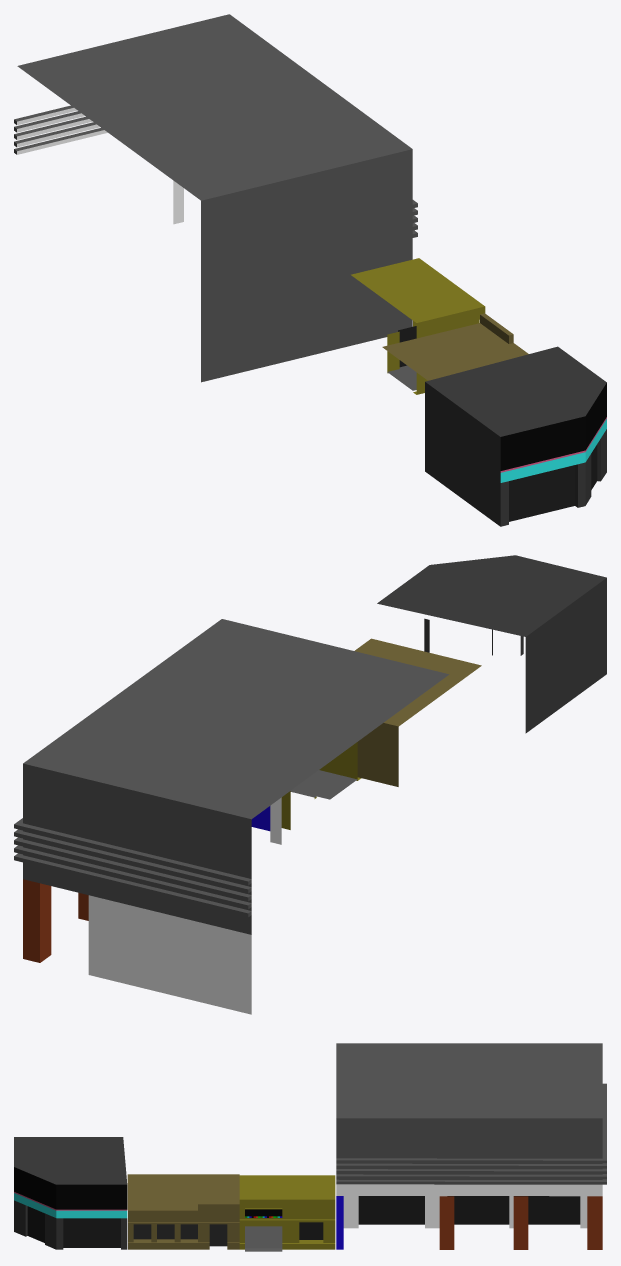
Rendered from Cuadra-2-Izquierda.glb.
3 renders of one model, top to bottom at view 1: azimuth 30°, elevation 25°; view 2: azimuth 150°, elevation 25°; view 3: azimuth 270°, elevation 25°, orthographic. The views are drawn at different scales.
Visible parts, largest first — view 1: Plane4, Plane, Plane3, Plane2; view 2: Plane4, Plane, Plane2, Plane3; view 3: Plane4, Plane, Plane2, Plane3.
Boxes of the visible parts, <box> form: Plane4: <box>14,14,417,382</box>; Plane: <box>425,346,606,526</box>; Plane3: <box>351,258,485,394</box>; Plane2: <box>382,313,528,380</box>; Plane4: <box>14,619,449,1014</box>; Plane: <box>377,555,606,733</box>; Plane2: <box>355,638,481,786</box>; Plane3: <box>281,742,361,829</box>; Plane4: <box>336,1043,606,1249</box>; Plane: <box>14,1137,127,1249</box>; Plane2: <box>127,1174,239,1249</box>; Plane3: <box>239,1175,335,1251</box>.
Bounding box in the file's own units: 26.65 × 21.23 × 86.87.
